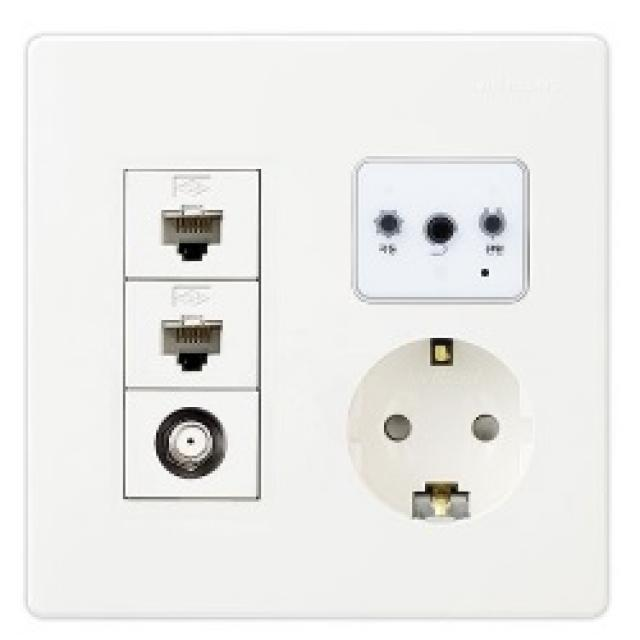typeb: (14, 20, 625, 637)
